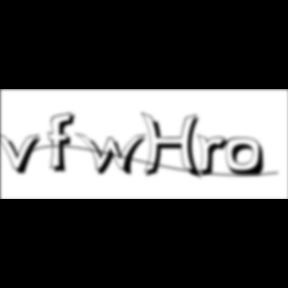H: (141, 112, 207, 182)
f: (48, 111, 82, 175)
o: (225, 137, 267, 179)
r: (197, 134, 235, 180)
v: (0, 131, 48, 177)
w: (76, 132, 154, 178)
